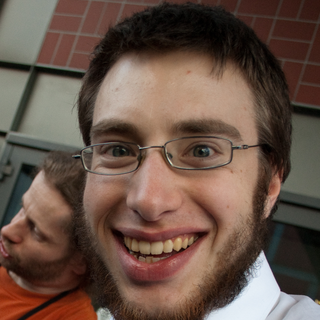eye: (178, 141, 226, 164), (98, 141, 135, 161)
